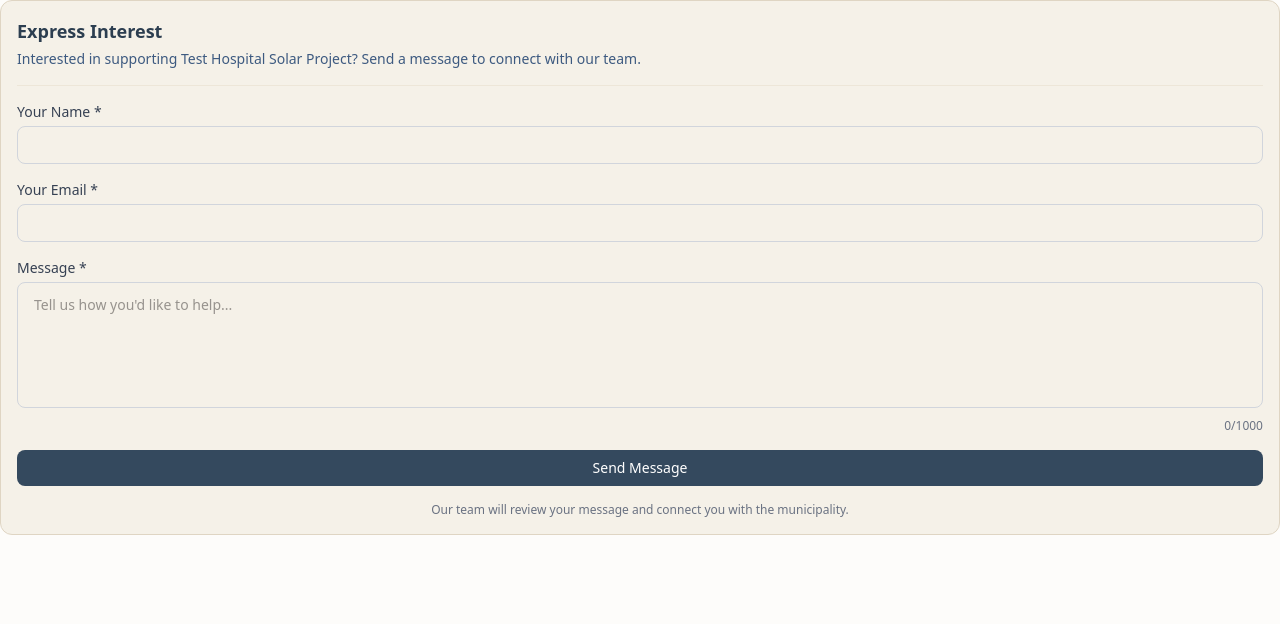
it: ContactForm › Validation › clears error when user starts typing
Submit to trigger errors
Click the button "Send Message": (640, 468) [17, 450, 1263, 486]
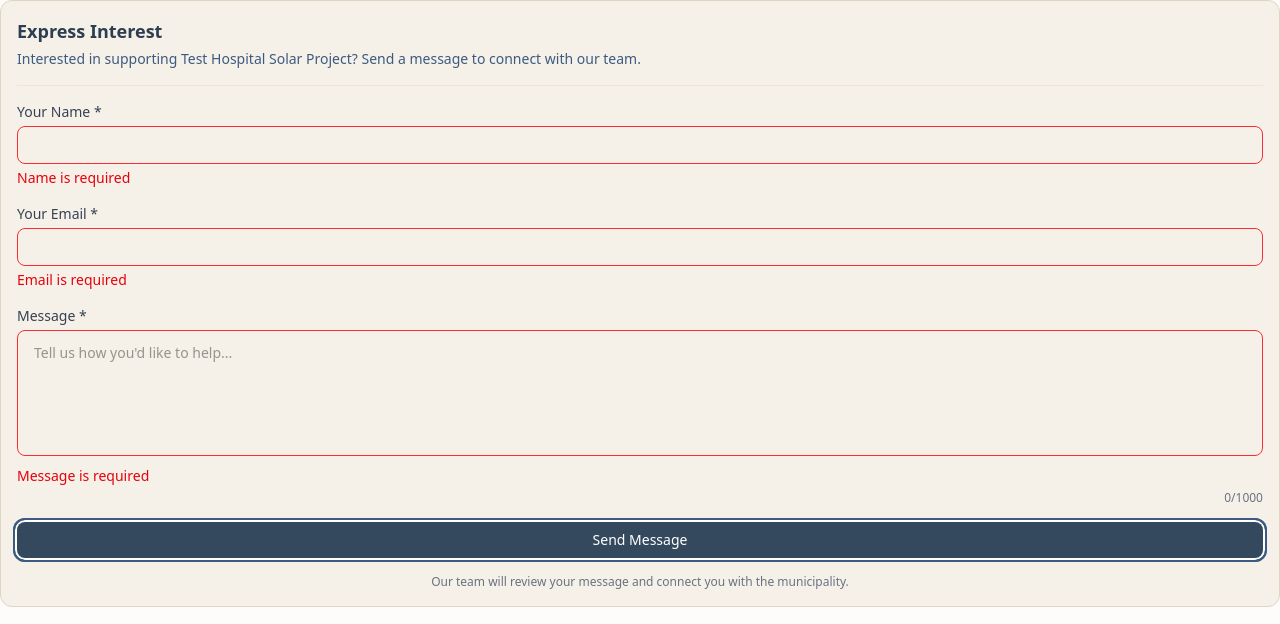
Result: the text "Name is required" is shown at [17, 168, 130, 187]
Start typing to clear error
In the field labelled "Your Name *": (640, 145) [17, 126, 1263, 164], type "J"
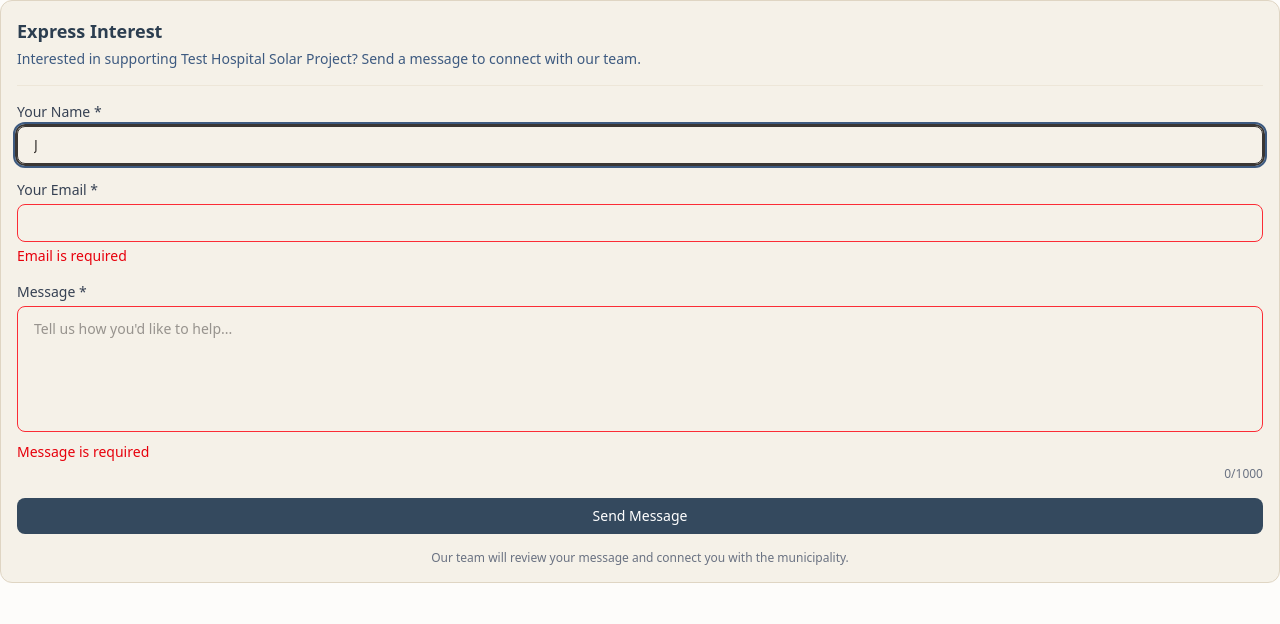
Result: the text "Name is required" is gone
